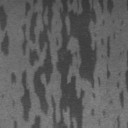red iron: (20, 0, 114, 128), (0, 5, 9, 55), (120, 71, 128, 108), (11, 72, 16, 82), (106, 66, 110, 78), (117, 117, 121, 128), (14, 121, 18, 128), (93, 93, 96, 98), (92, 108, 94, 115), (117, 82, 119, 88)
